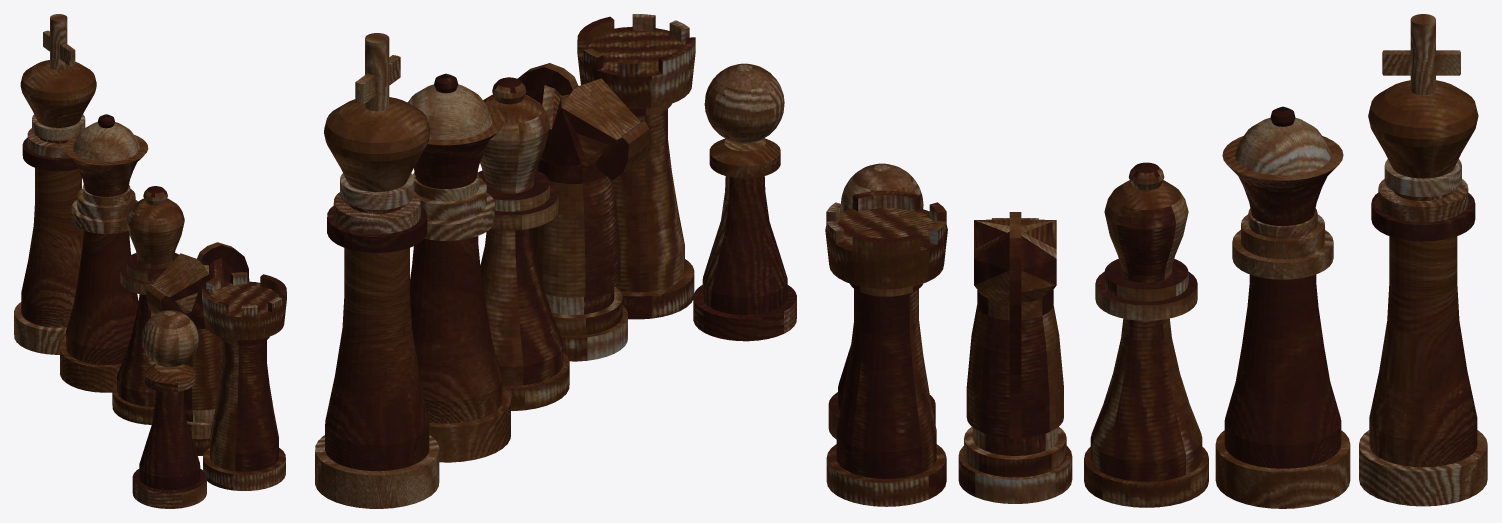
File: pieces.dae
The picture shows the model from 3 angles, left to right: view 1: azimuth 30°, elevation 25°; view 2: azimuth 150°, elevation 25°; view 3: azimuth 270°, elevation 25°; orthographic projection. The views are drawn at different scales.
Visible parts, largest first — view 1: king, queen, rook, pawn, bishop, knight; view 2: king, queen, knight, rook, bishop, pawn; view 3: king, queen, rook, bishop, knight, pawn.
Part boxes in pixels (bbox=[...]): king: bbox=[14, 14, 96, 354]; queen: bbox=[60, 114, 148, 392]; rook: bbox=[202, 272, 286, 490]; pawn: bbox=[132, 310, 206, 508]; bishop: bbox=[112, 186, 184, 424]; knight: bbox=[146, 242, 249, 455]; king: bbox=[315, 33, 439, 508]; queen: bbox=[407, 73, 510, 462]; knight: bbox=[517, 63, 649, 361]; rook: bbox=[577, 14, 695, 319]; bishop: bbox=[478, 77, 569, 410]; pawn: bbox=[693, 63, 796, 341]; king: bbox=[1359, 14, 1487, 506]; queen: bbox=[1215, 106, 1350, 508]; rook: bbox=[825, 190, 947, 506]; bishop: bbox=[1084, 162, 1208, 507]; knight: bbox=[958, 212, 1072, 503]; pawn: bbox=[828, 163, 935, 439].
Bounding box in the file's own units: 2.68 × 6.82 × 5.25.
Materials: 1 (1 with a texture image).
